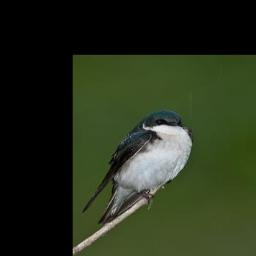Swallow: (81, 106, 196, 225)
